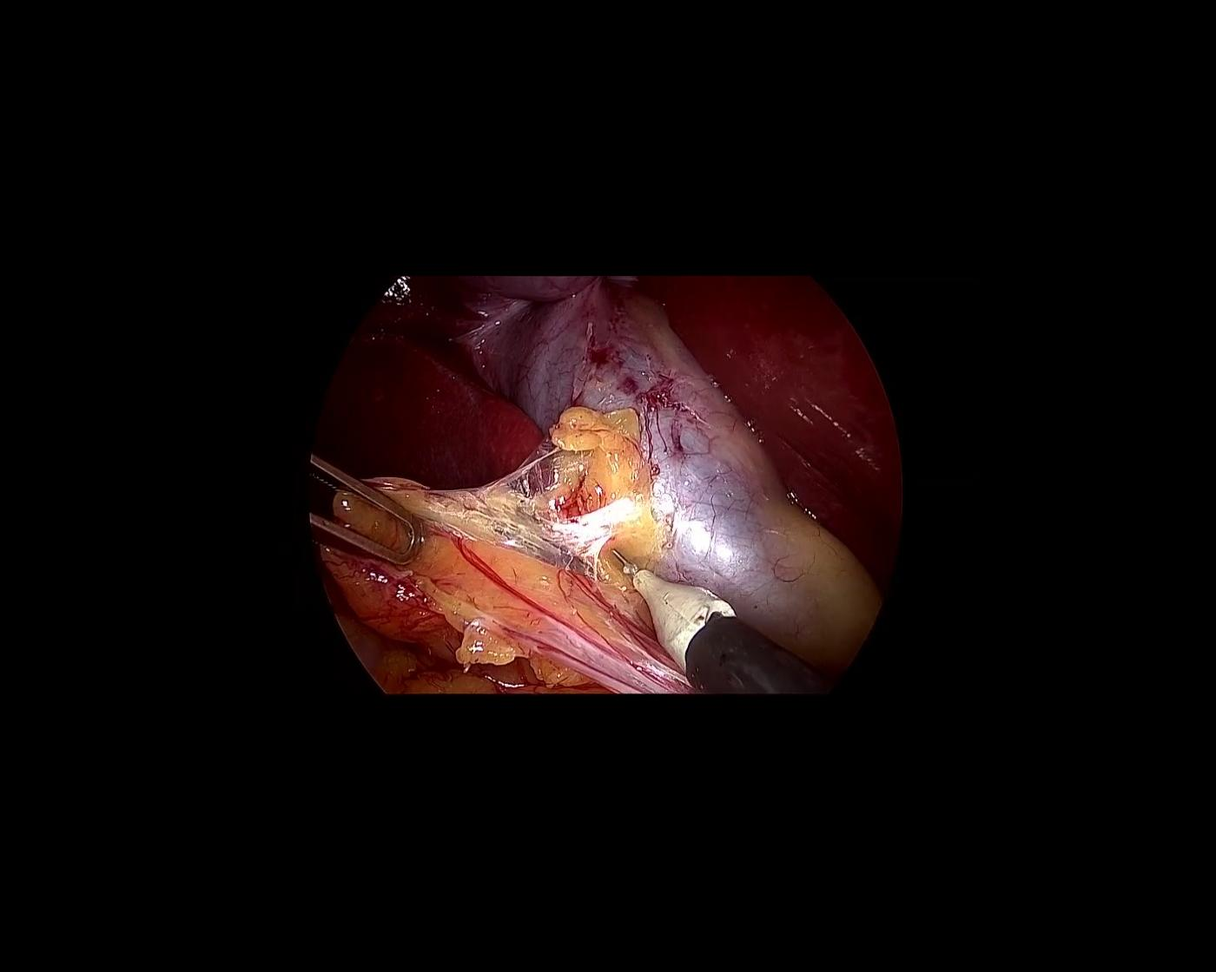Cautery: (579, 530, 835, 750)
Forceps: (282, 453, 439, 579)
Gallbladder: (386, 168, 905, 749)
Liver: (613, 186, 980, 603), (303, 277, 572, 521)
